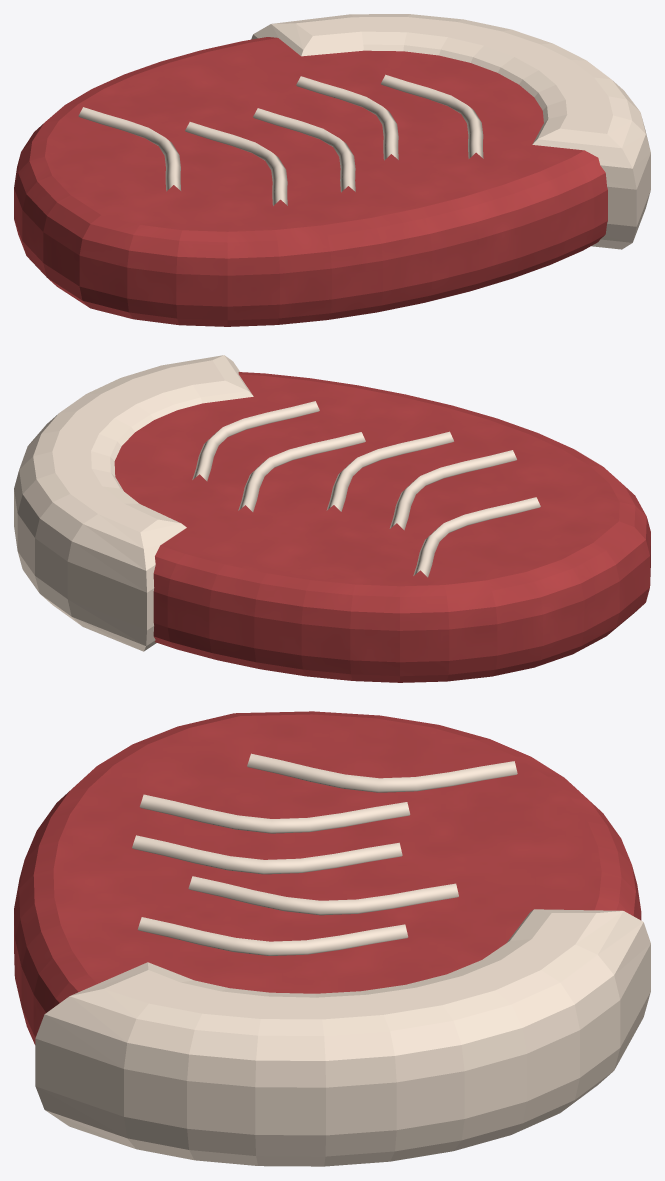
The model's file is raw_beef.glb.
The picture shows the model from 3 angles, top to bottom: view 1: azimuth 30°, elevation 25°; view 2: azimuth 150°, elevation 25°; view 3: azimuth 270°, elevation 25°; orthographic projection. The views are drawn at different scales.
Visible parts, largest first — view 1: raw_beef; view 2: raw_beef; view 3: raw_beef.
Part boxes in pixels (left/top/right/bottom): raw_beef: left=14, top=14, right=650, bottom=326; raw_beef: left=14, top=355, right=650, bottom=682; raw_beef: left=14, top=711, right=650, bottom=1166.
Bounding box in the file's own units: 0.1908 × 0.036 × 0.1451.
2 materials, 1 textured.
